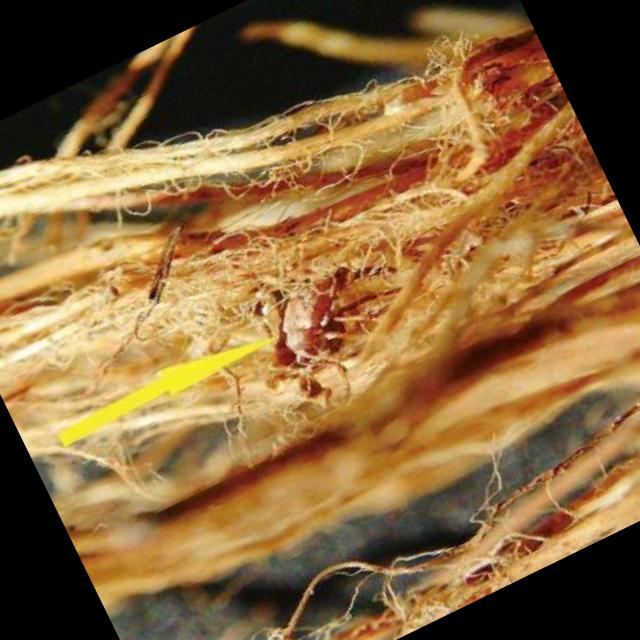rice-bug: (251, 256, 388, 396)
